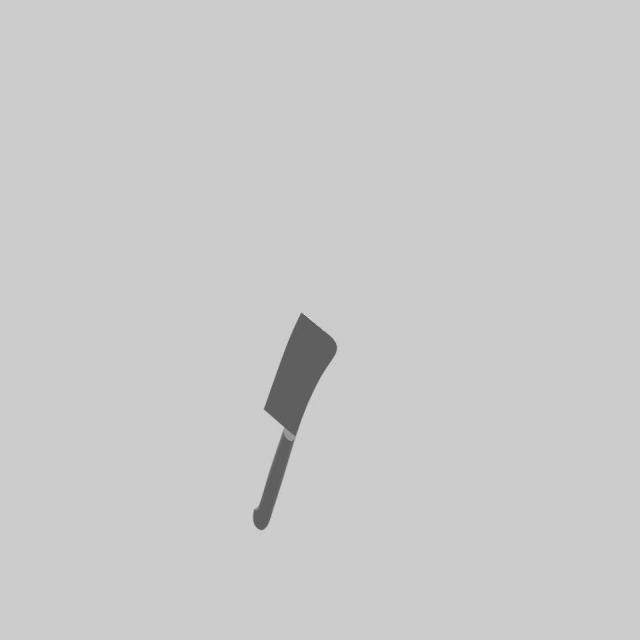knife: (253, 427, 296, 529)
